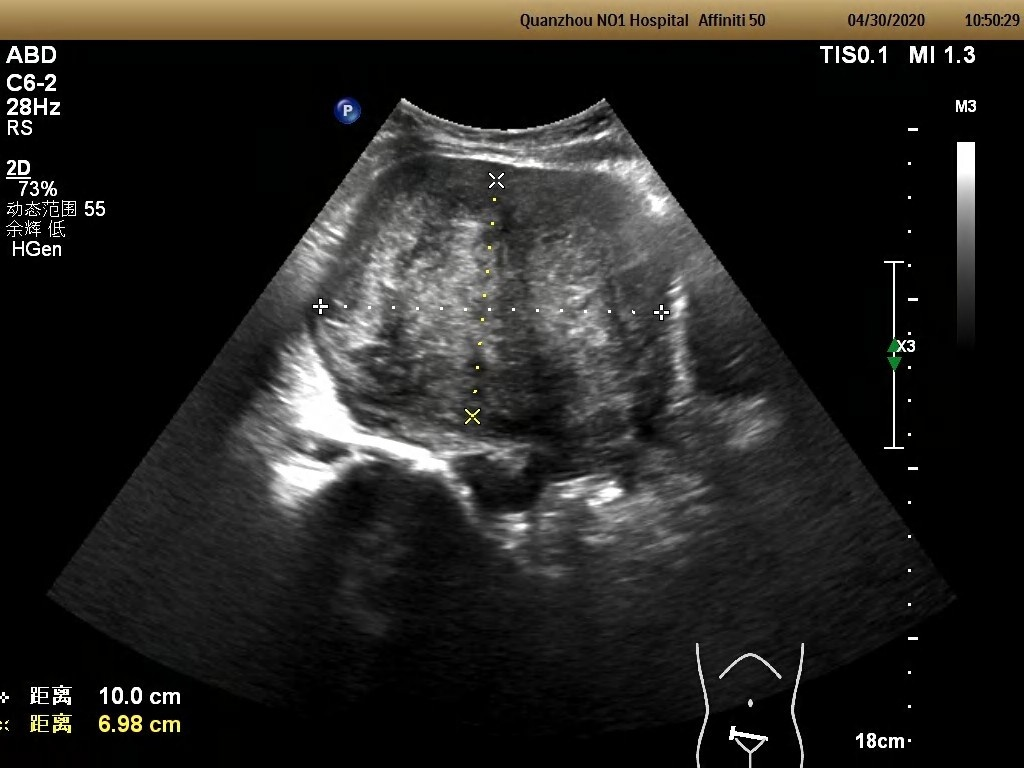肌瘤: (321, 175, 671, 429)
